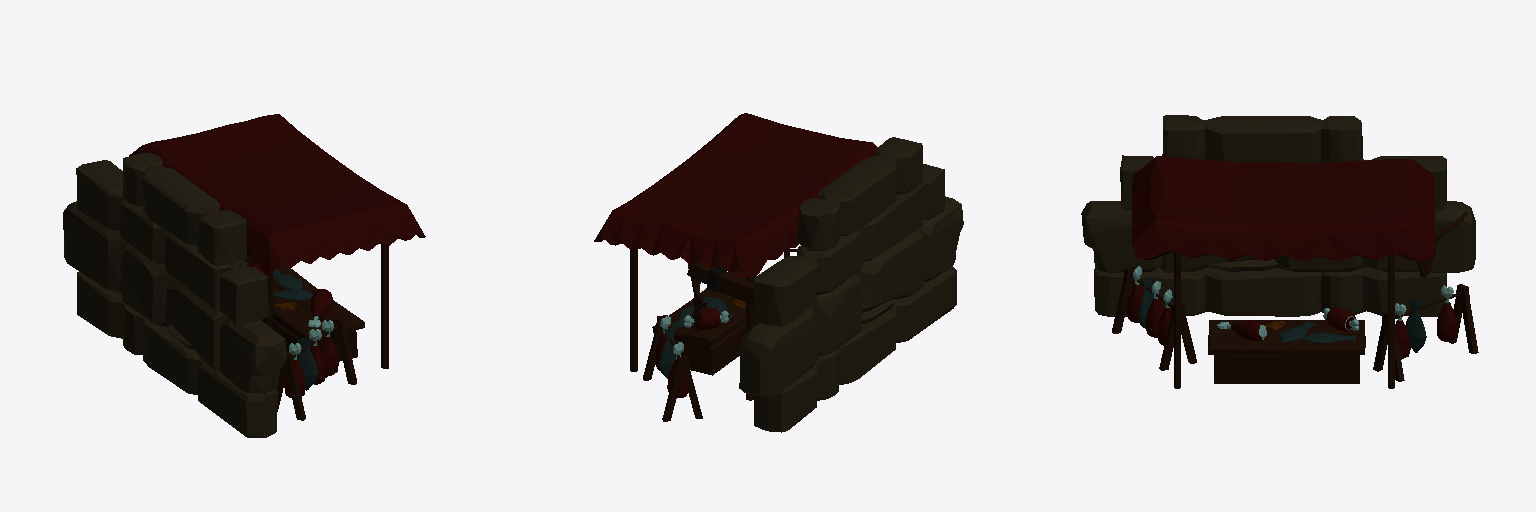
File: stall2.obj
3 views of the same model, side by side, from view 1: azimuth 30°, elevation 25°; view 2: azimuth 150°, elevation 25°; view 3: azimuth 270°, elevation 25° (orthographic).
Parts seen in each view (by area): view 1: _botcher_market_Cube.181; view 2: _botcher_market_Cube.181; view 3: _botcher_market_Cube.181.
Part boxes in pixels (x1,y1,x2,y2): _botcher_market_Cube.181: (63, 114, 425, 437); _botcher_market_Cube.181: (594, 113, 963, 432); _botcher_market_Cube.181: (1081, 115, 1478, 388).
Size of the model in its own units: 2.44 by 2.2 by 4.19.